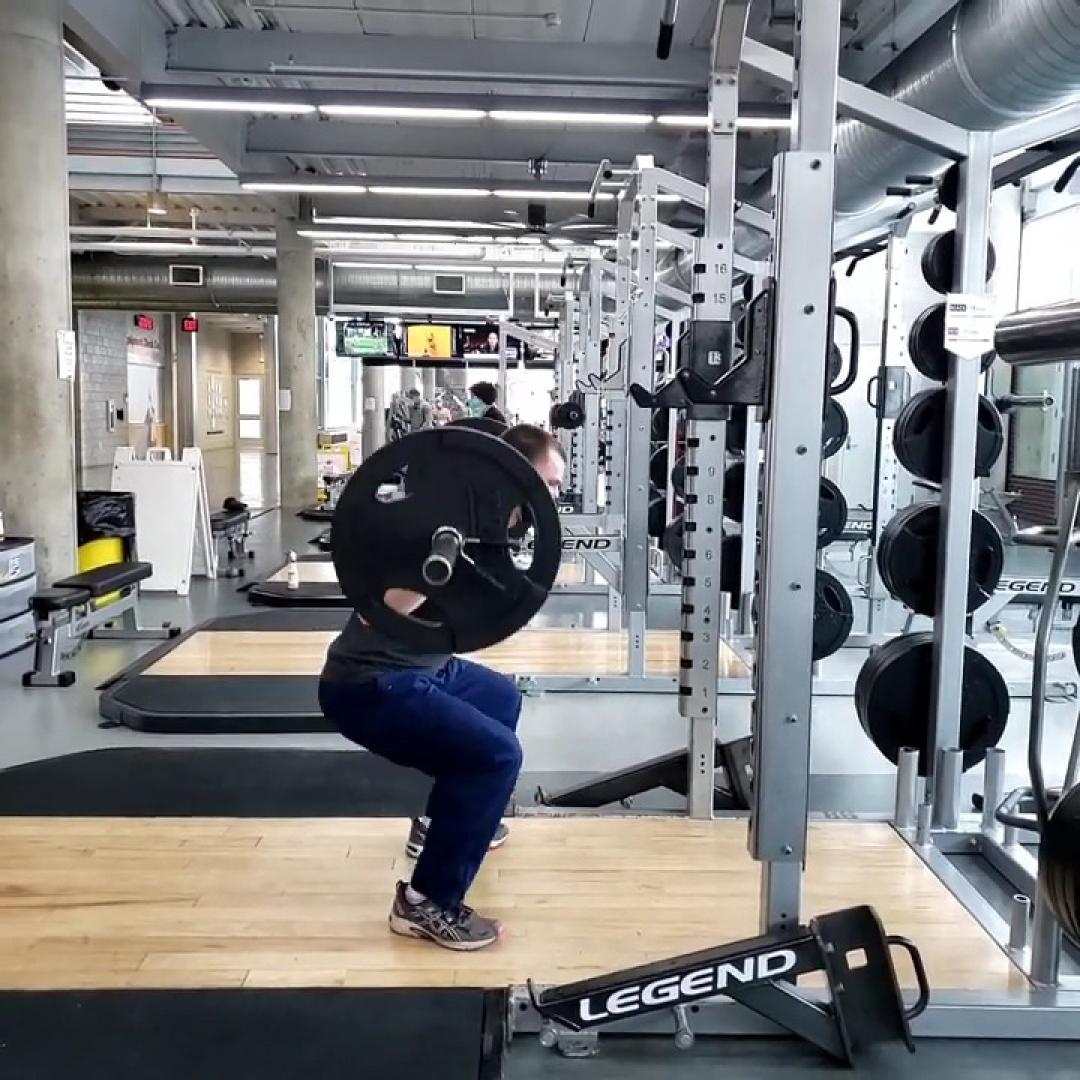Bar: (421, 555, 453, 588)
Barbell: (327, 426, 563, 654)
